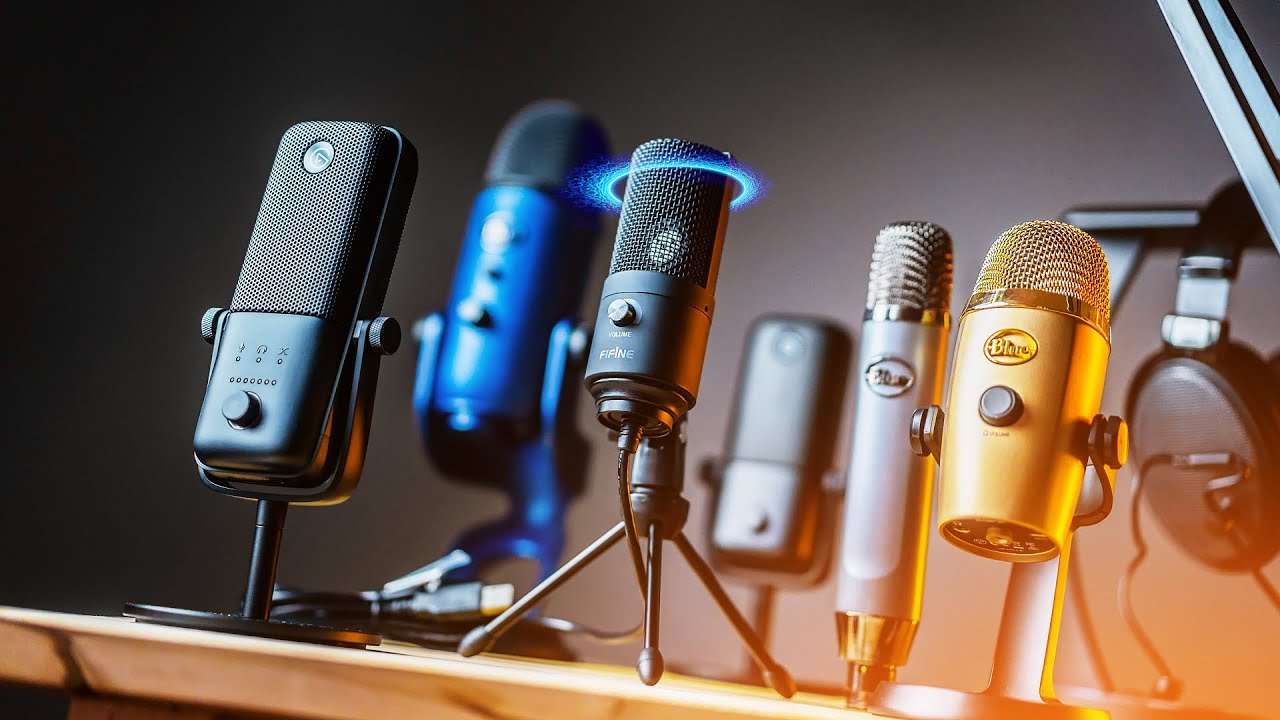microphone: (190, 118, 421, 512), (430, 94, 617, 490), (936, 219, 1117, 568), (833, 219, 956, 675), (579, 134, 738, 444), (706, 313, 856, 575)
